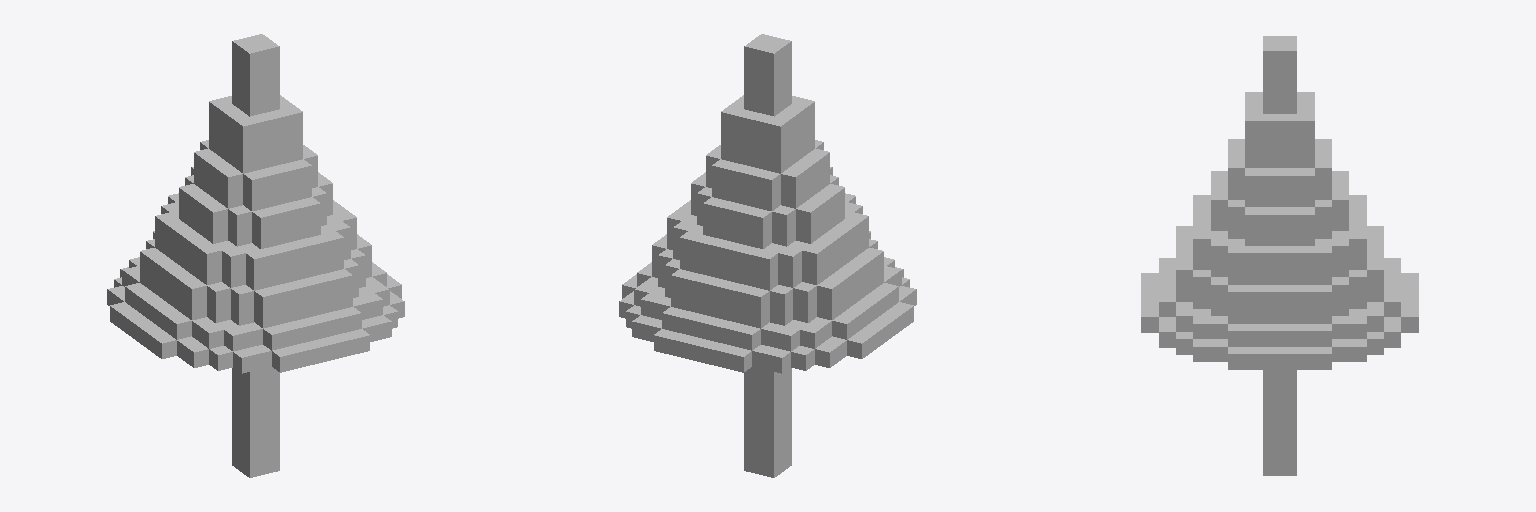
File: TallTree.obj
3 renders of one model, left to right at view 1: azimuth 30°, elevation 25°; view 2: azimuth 150°, elevation 25°; view 3: azimuth 270°, elevation 25°, orthographic.
Parts seen in each view (by area): view 1: TallTree; view 2: TallTree; view 3: TallTree.
Boxes of the visible parts, box(x1,y1,x2,y2) form: TallTree: box(107, 34, 404, 477); TallTree: box(619, 34, 916, 477); TallTree: box(1141, 36, 1418, 475).
Bounding box in the file's own units: 16 × 27 × 16.